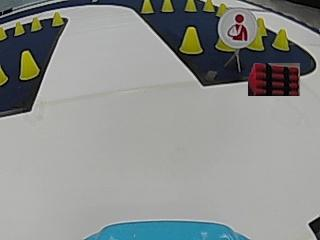cone: (179, 26, 202, 55), (19, 50, 39, 80), (273, 28, 289, 50), (140, 0, 154, 14), (51, 12, 64, 26), (0, 63, 8, 85), (31, 16, 42, 31), (14, 21, 25, 35), (184, 0, 196, 12), (161, 0, 173, 12), (203, 0, 214, 11), (0, 25, 7, 40)
patient: (219, 9, 253, 42)
